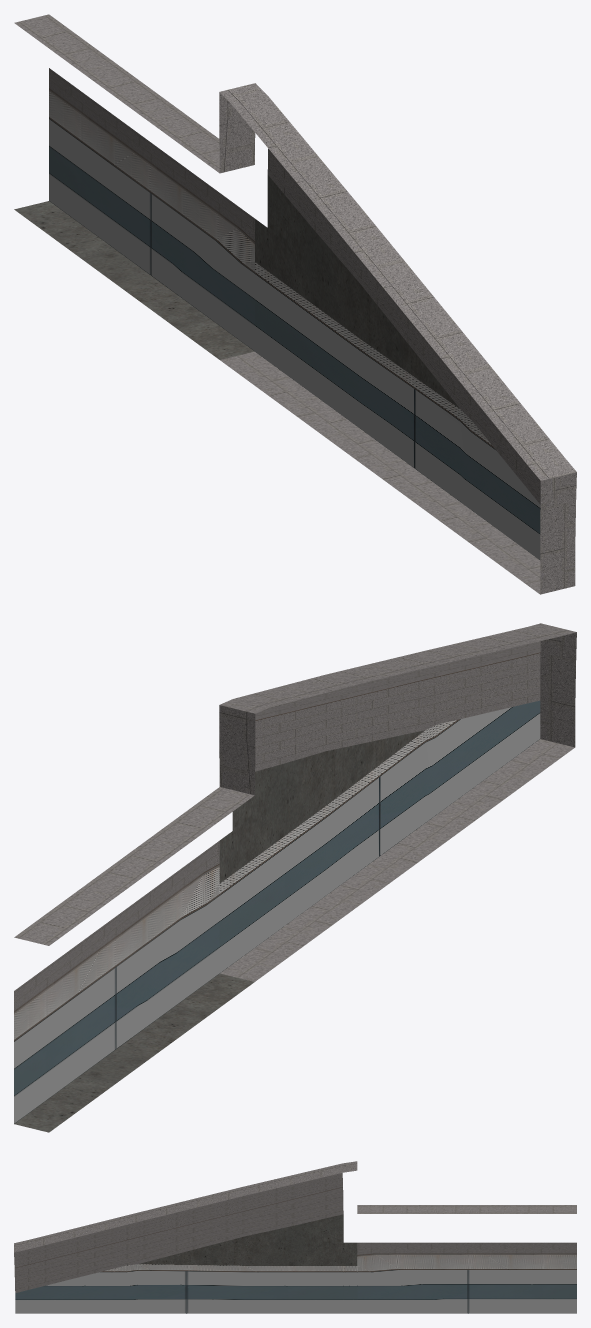
Rendered from median_lod.fbx.
The picture shows the model from 3 angles, top to bottom: view 1: azimuth 30°, elevation 25°; view 2: azimuth 150°, elevation 25°; view 3: azimuth 270°, elevation 25°; orthographic projection. The views are drawn at different scales.
Visible parts, largest first — view 1: 12DR_Slope_lod.005; view 2: 12DR_Slope_lod.005; view 3: 12DR_Slope_lod.005.
Boxes of the visible parts, bbox=[...] form: 12DR_Slope_lod.005: bbox=[14, 14, 576, 594]; 12DR_Slope_lod.005: bbox=[14, 623, 576, 1132]; 12DR_Slope_lod.005: bbox=[14, 1161, 576, 1313].
Size of the model in its own units: 163 by 1151 by 4100.
